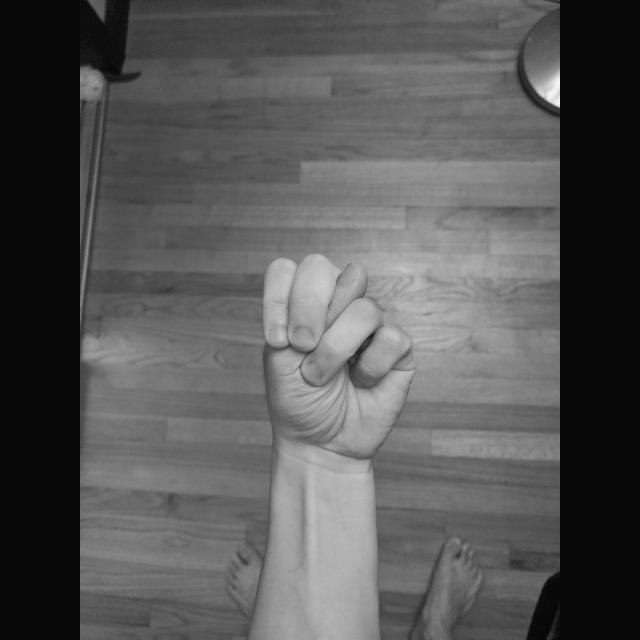N: (258, 248, 420, 462)
